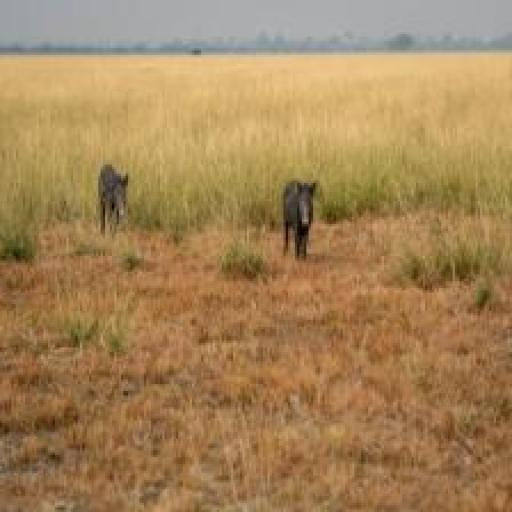Pig: (84, 153, 148, 254), (272, 162, 330, 273)
